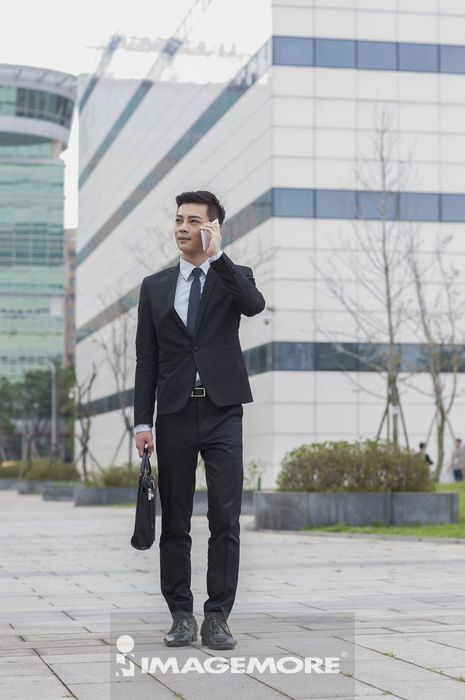phone: (201, 216, 219, 252)
talk: (174, 213, 221, 258)
